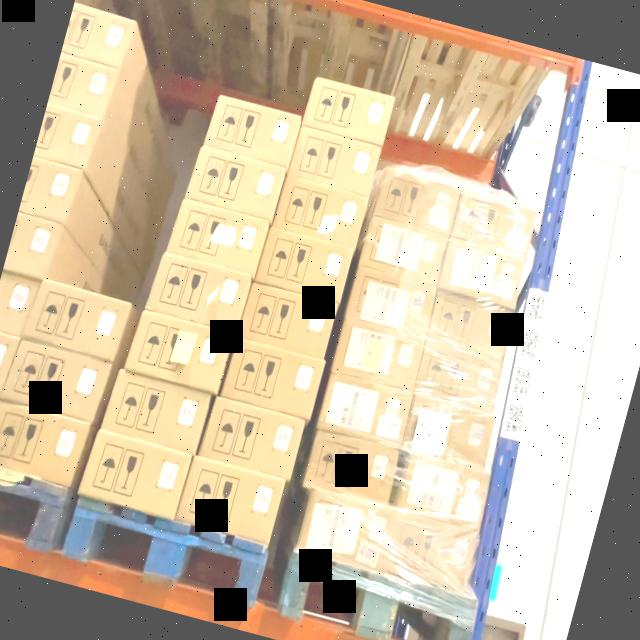box: (174, 455, 287, 544), (79, 429, 192, 518), (0, 340, 111, 423), (125, 309, 234, 393), (101, 370, 210, 454), (197, 396, 306, 480), (219, 337, 326, 420), (145, 252, 252, 333), (25, 279, 130, 361), (296, 488, 397, 571), (381, 508, 480, 591), (165, 198, 270, 276), (236, 282, 339, 360), (184, 145, 285, 221), (301, 428, 400, 504), (0, 403, 89, 487), (315, 370, 413, 446), (396, 451, 492, 528), (202, 94, 301, 168), (400, 392, 495, 469), (271, 174, 367, 250), (255, 230, 353, 303), (330, 318, 425, 391), (344, 266, 436, 338), (301, 74, 394, 145), (287, 126, 381, 196), (414, 341, 503, 413), (437, 240, 526, 310), (359, 217, 447, 286), (425, 292, 514, 360), (450, 190, 536, 258)
